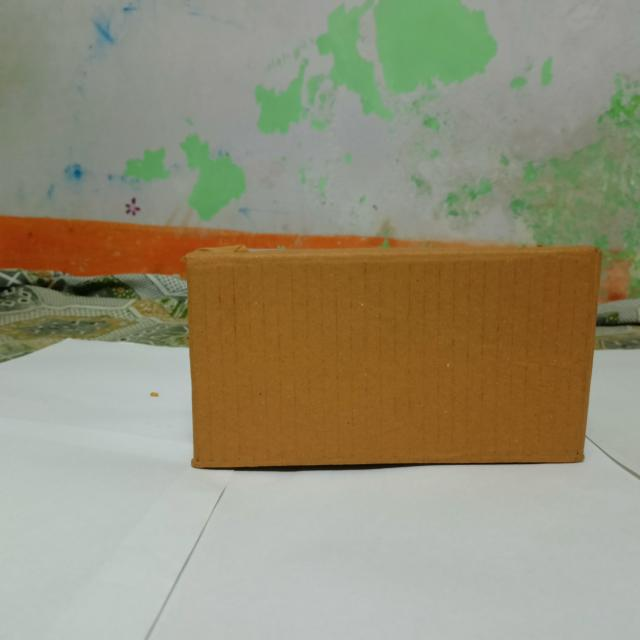box: (190, 260, 587, 463)
